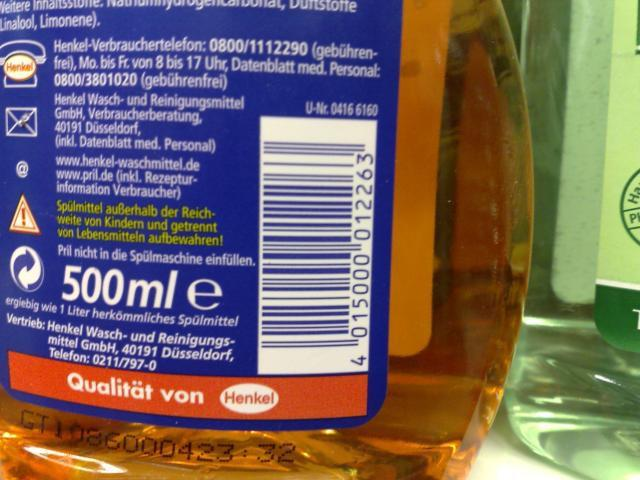Barcode: (260, 134, 380, 377)
